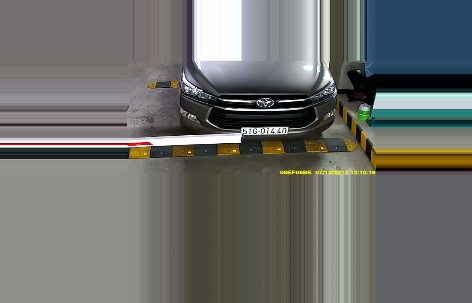plate: (240, 123, 287, 137)
